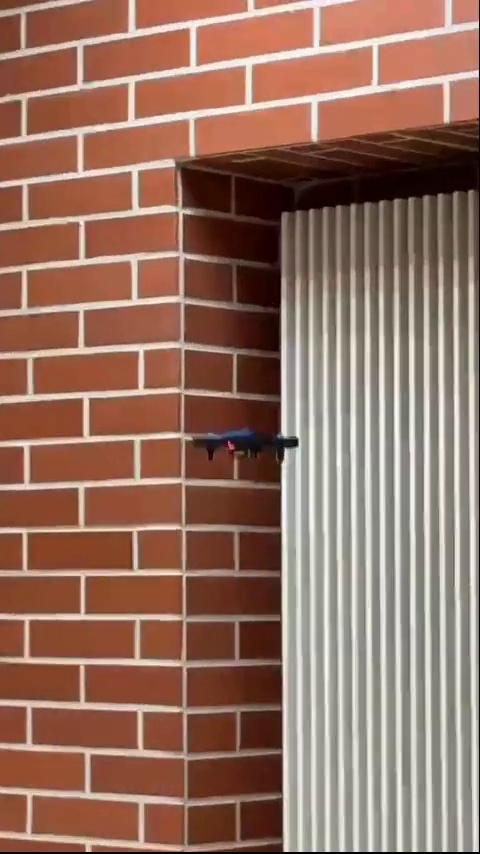drone: (184, 426, 303, 462)
